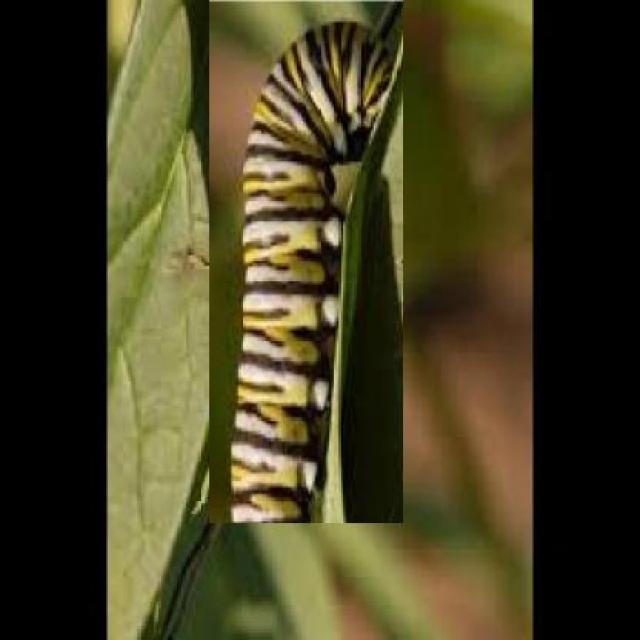Plaga: (209, 1, 406, 526)
